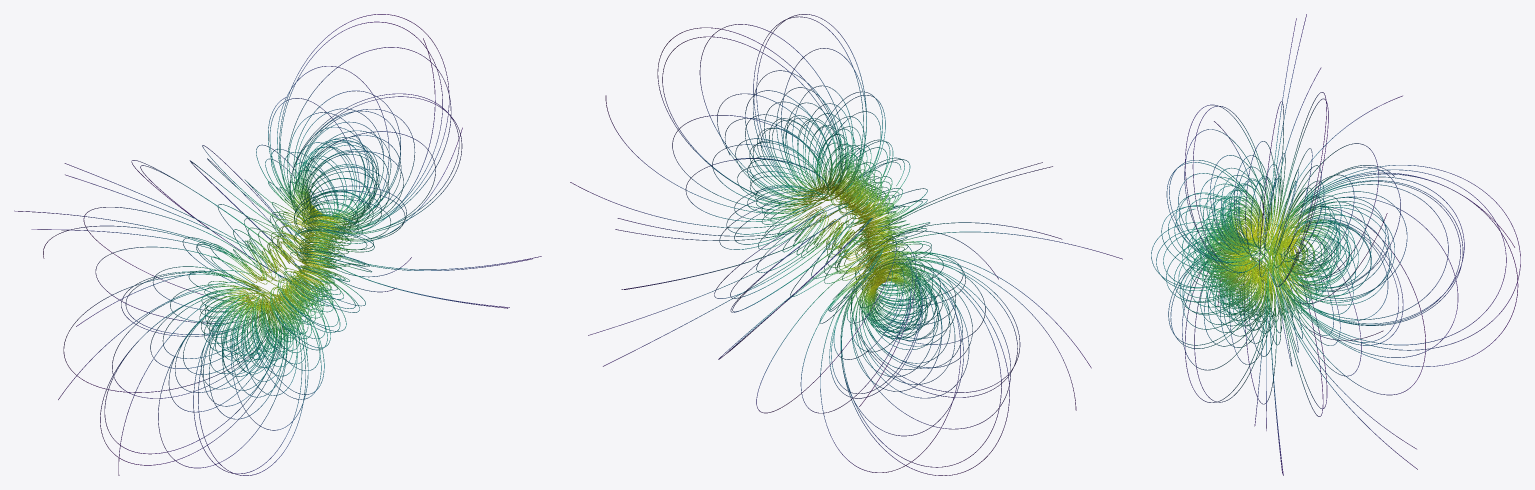
File: global_field_lines.gltf
3 views of the same model, side by side, from view 1: azimuth 30°, elevation 25°; view 2: azimuth 150°, elevation 25°; view 3: azimuth 270°, elevation 25° (orthographic).
Visible parts, largest first — view 1: Renderer Node; view 2: Renderer Node; view 3: Renderer Node.
Boxes of the visible parts, x1,y1,x2,y2 form: Renderer Node: (14,14,541,475); Renderer Node: (570,14,1122,475); Renderer Node: (1151,14,1520,475).
Size of the model in its own units: 1.47 by 1.15 by 0.9522.
1 material, 1 textured.
